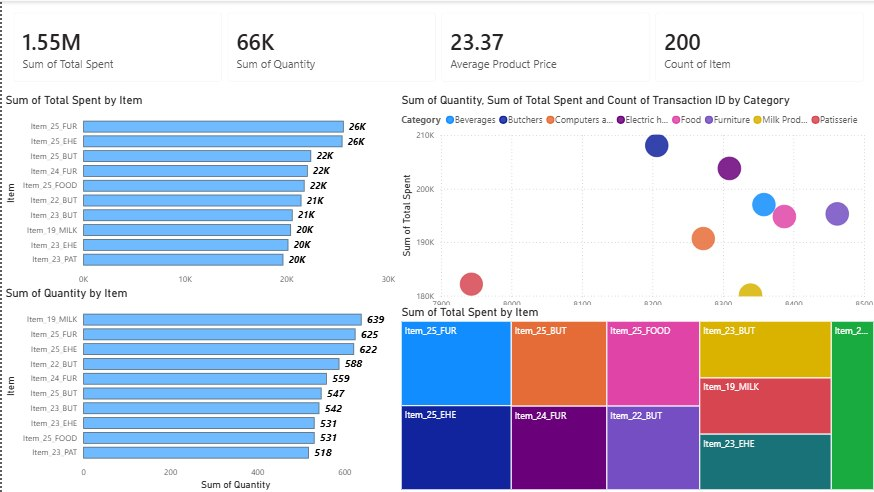

This screenshot's page, from the dashboard's own definition file:
{"tool":"powerbi","page":{"name":"Product Performance","canvas":[1280,720],"ordinal":1},"visuals":[{"type":"cardVisual","fields":{"Data":["Sum(Retail.Total Spent)","Sum(Retail.Quantity)","Retail.Average Product Price","Count(Retail.Item)"]},"box":[0,0,1280,135],"z":0},{"type":"barChart","fields":{"Category":["Retail.Item"],"Y":["Sum(Retail.Total Spent)"]},"box":[0,135,580,303.3],"z":1000},{"type":"barChart","fields":{"Category":["Retail.Item"],"Y":["Sum(Retail.Quantity)"]},"box":[0,416.7,580,303.3],"z":2000},{"type":"scatterChart","fields":{"X":["Sum(Retail.Quantity)"],"Y":["Sum(Retail.Total Spent)"],"Size":["CountNonNull(Retail.Transaction ID)"],"Series":["Retail.Category"]},"box":[580,135,700,340],"z":3000},{"type":"treemap","fields":{"Values":["Sum(Retail.Total Spent)"],"Group":["Retail.Item"]},"box":[579.5,444.9,701,275.1],"z":4000}]}

Visuals, with their boxes in screenshot pixels (x1, y1, x2, y2), scaled from the page's 1280x720 canvas onto the 874x492 screenshot:
cardVisual - Sum(Retail.Total Spent) x Sum(Retail.Quantity): [0, 0, 873, 92]
barChart - Retail.Item x Sum(Retail.Total Spent): [0, 92, 396, 300]
barChart - Retail.Item x Sum(Retail.Quantity): [0, 285, 396, 491]
scatterChart - Sum(Retail.Quantity) x Sum(Retail.Total Spent): [396, 92, 873, 325]
treemap - Sum(Retail.Total Spent) x Retail.Item: [396, 304, 873, 491]
